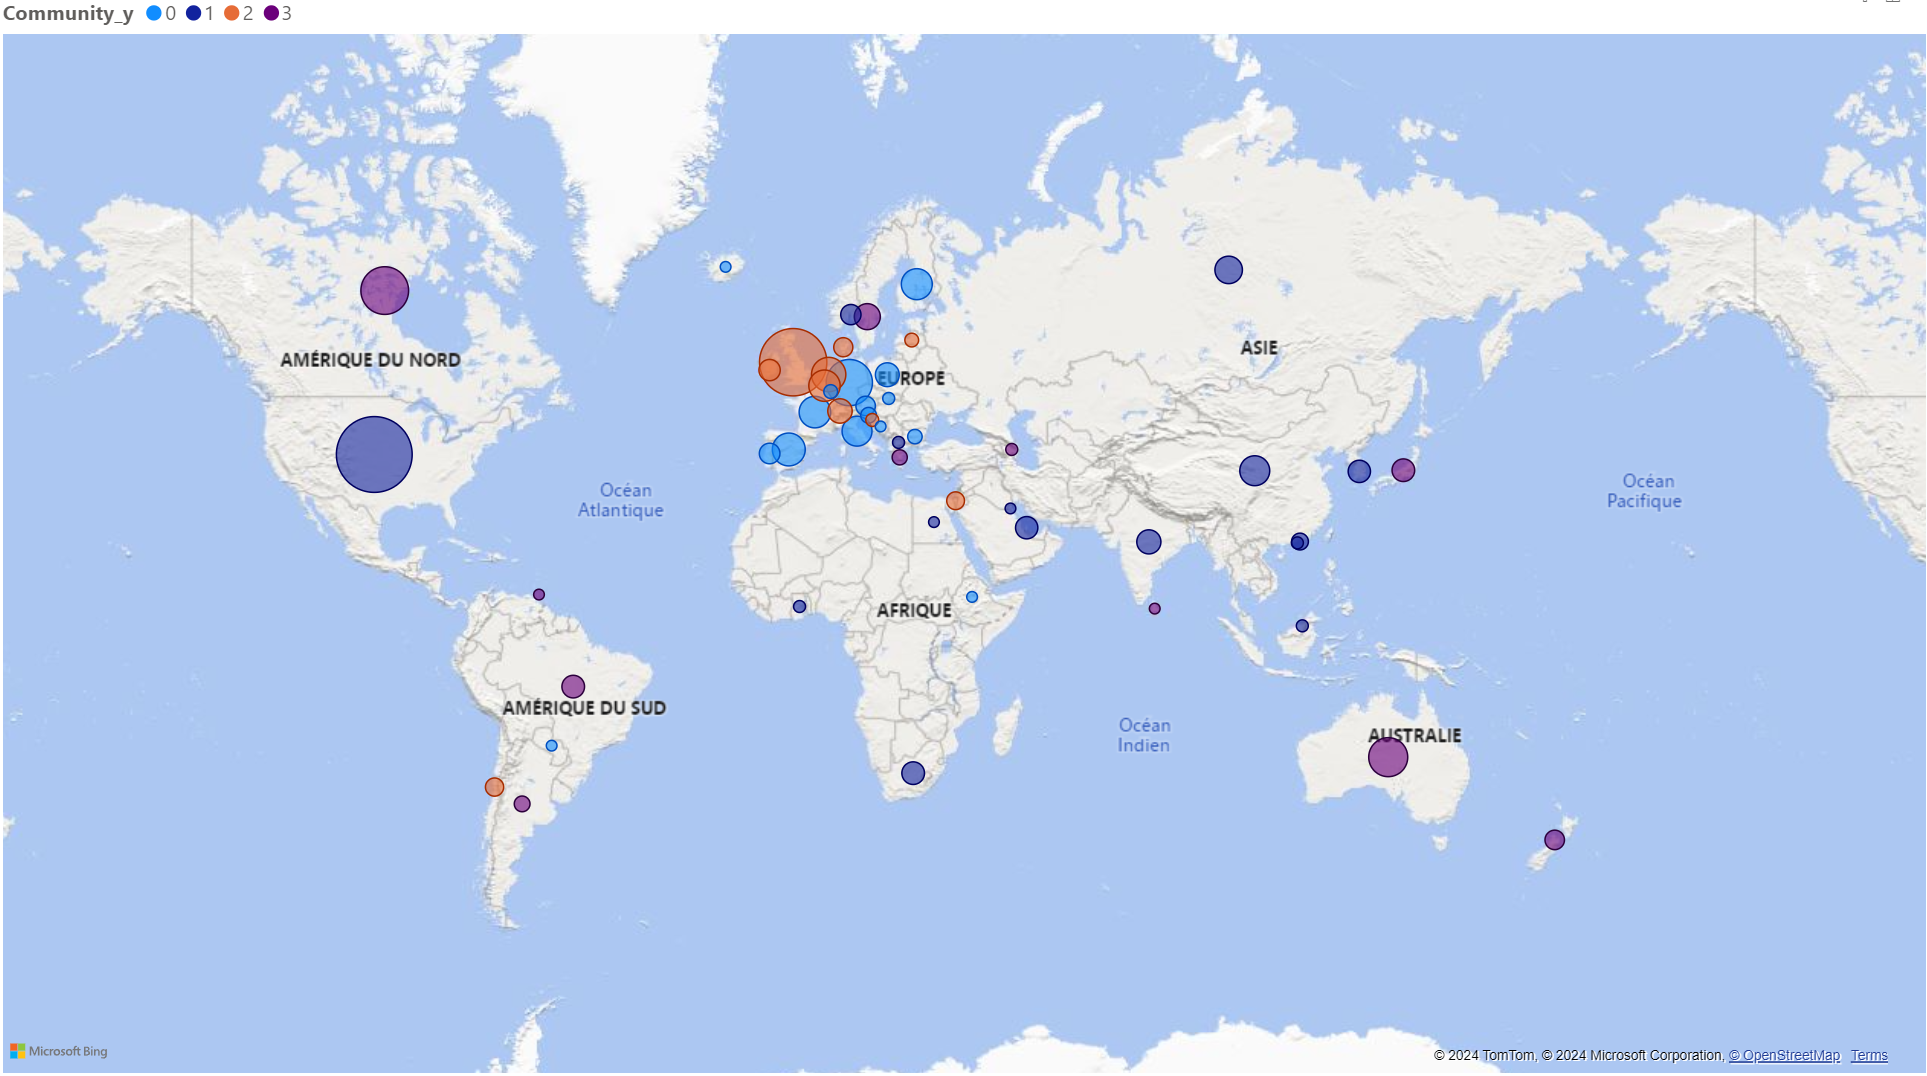

What the dashboard file says about the page in this screenshot:
{"tool":"powerbi","page":{"name":"Page 1","canvas":[1280,720],"ordinal":0},"visuals":[{"type":"filledMap","fields":{"Category":["national_output.country_name"],"Series":["national_output.Community"]},"box":[0,6.6,656.4,455.9],"z":0}]}

Visuals, with their boxes in screenshot pixels (x1, y1, x2, y2), scaled from the page's 1280x720 canvas onto the 1927x1076 screenshot:
filledMap - national_output.country_name x national_output.Community: crop(0, 10, 988, 691)
